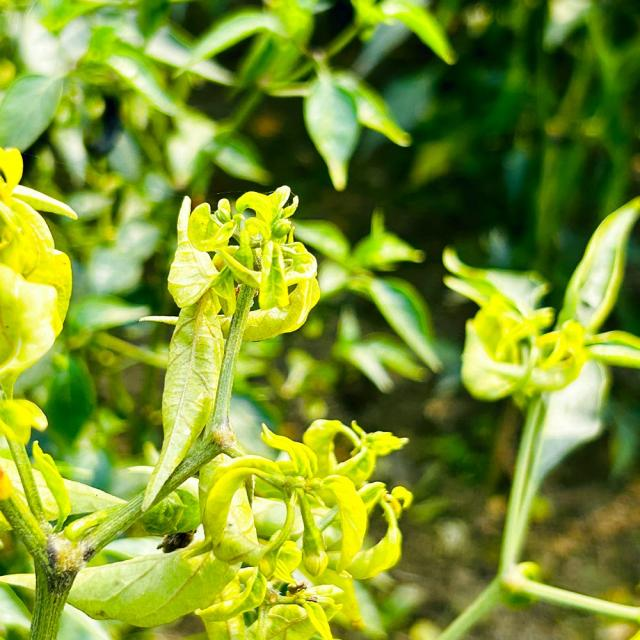Chilli_Leaf_Curl: (1, 145, 413, 638), (437, 194, 639, 636), (1, 0, 457, 190), (138, 184, 321, 515), (195, 416, 412, 636), (441, 195, 639, 409), (166, 184, 322, 342), (0, 146, 78, 398)
